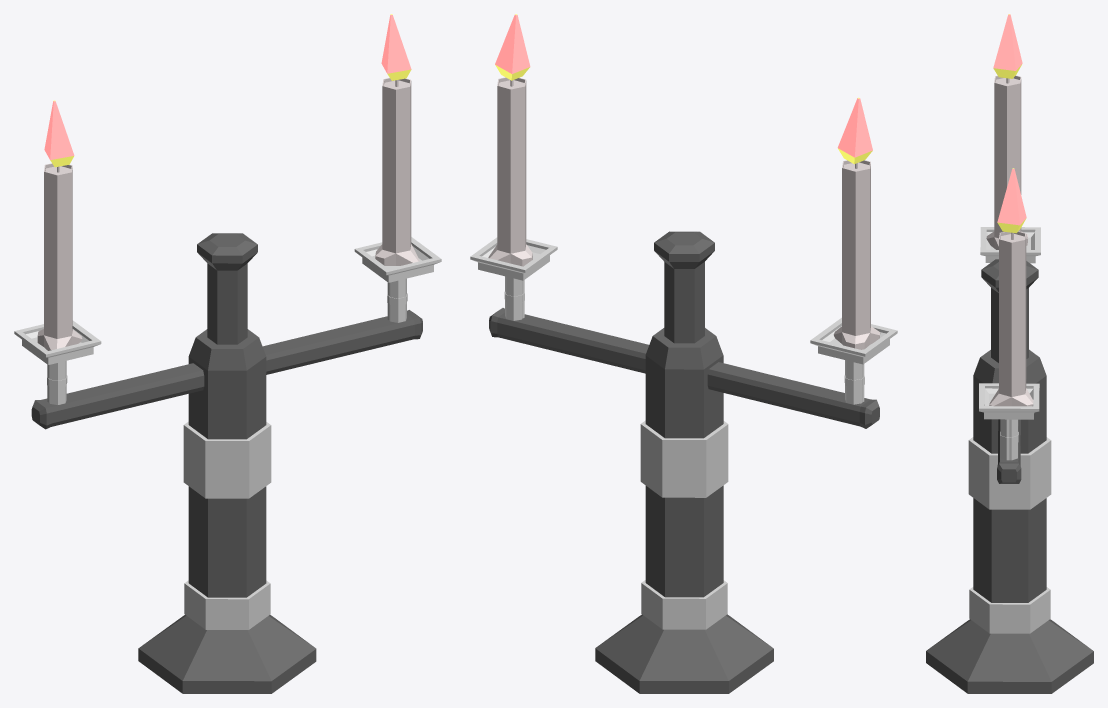
Rendered from Candlestick 2.fbx.
3 renders of one model, left to right at view 1: azimuth 30°, elevation 25°; view 2: azimuth 150°, elevation 25°; view 3: azimuth 270°, elevation 25°, orthographic. The views are drawn at different scales.
Parts seen in each view (by area): view 1: Candlestick 2, Fire.001; view 2: Candlestick 2, Fire.001; view 3: Candlestick 2, Fire.001.
Boxes of the visible parts, x1,y1,x2,y2 form: Candlestick 2: (14,78,441,693); Fire.001: (44,14,411,167); Candlestick 2: (470,77,897,693); Fire.001: (495,14,872,164); Candlestick 2: (926,75,1093,693); Fire.001: (993,14,1026,233).
Bounding box in the file's own units: 1.24 × 0.4829 × 1.81.
